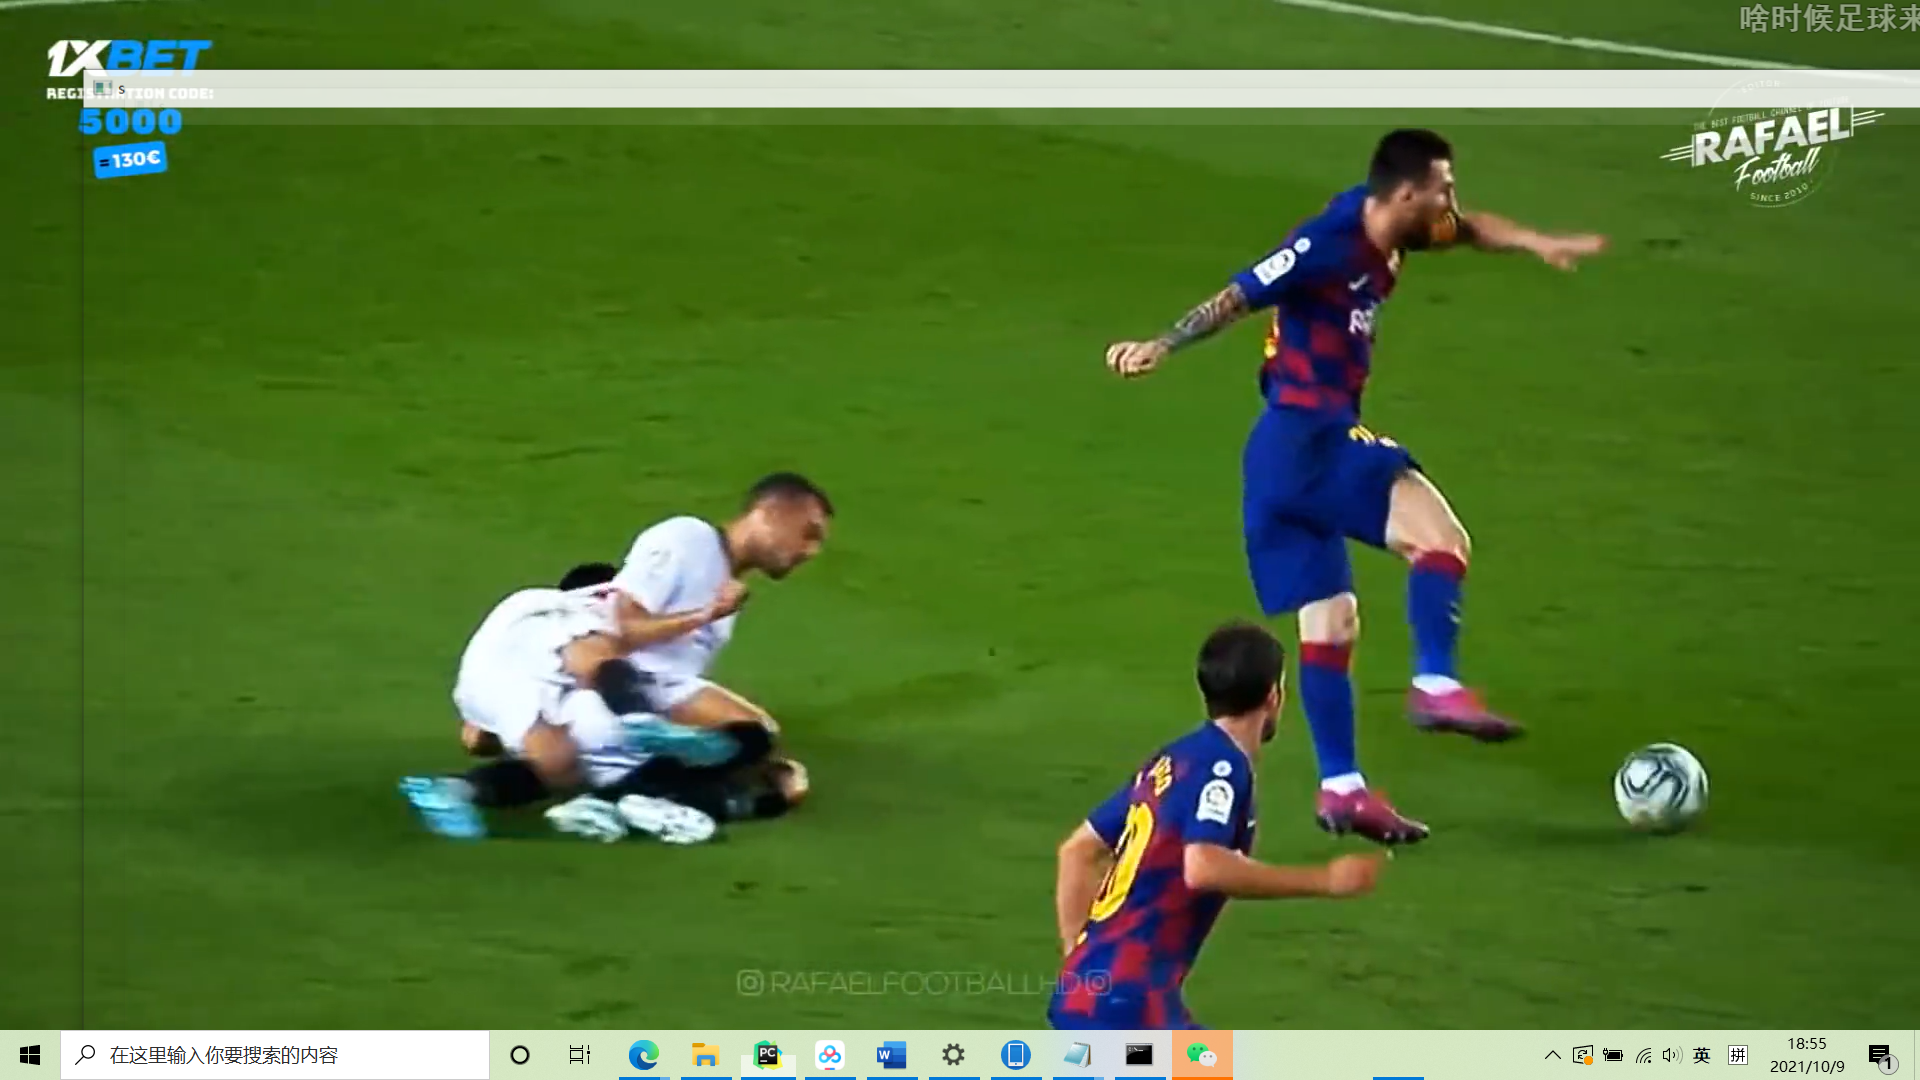ft: (1610, 735, 1712, 839)
